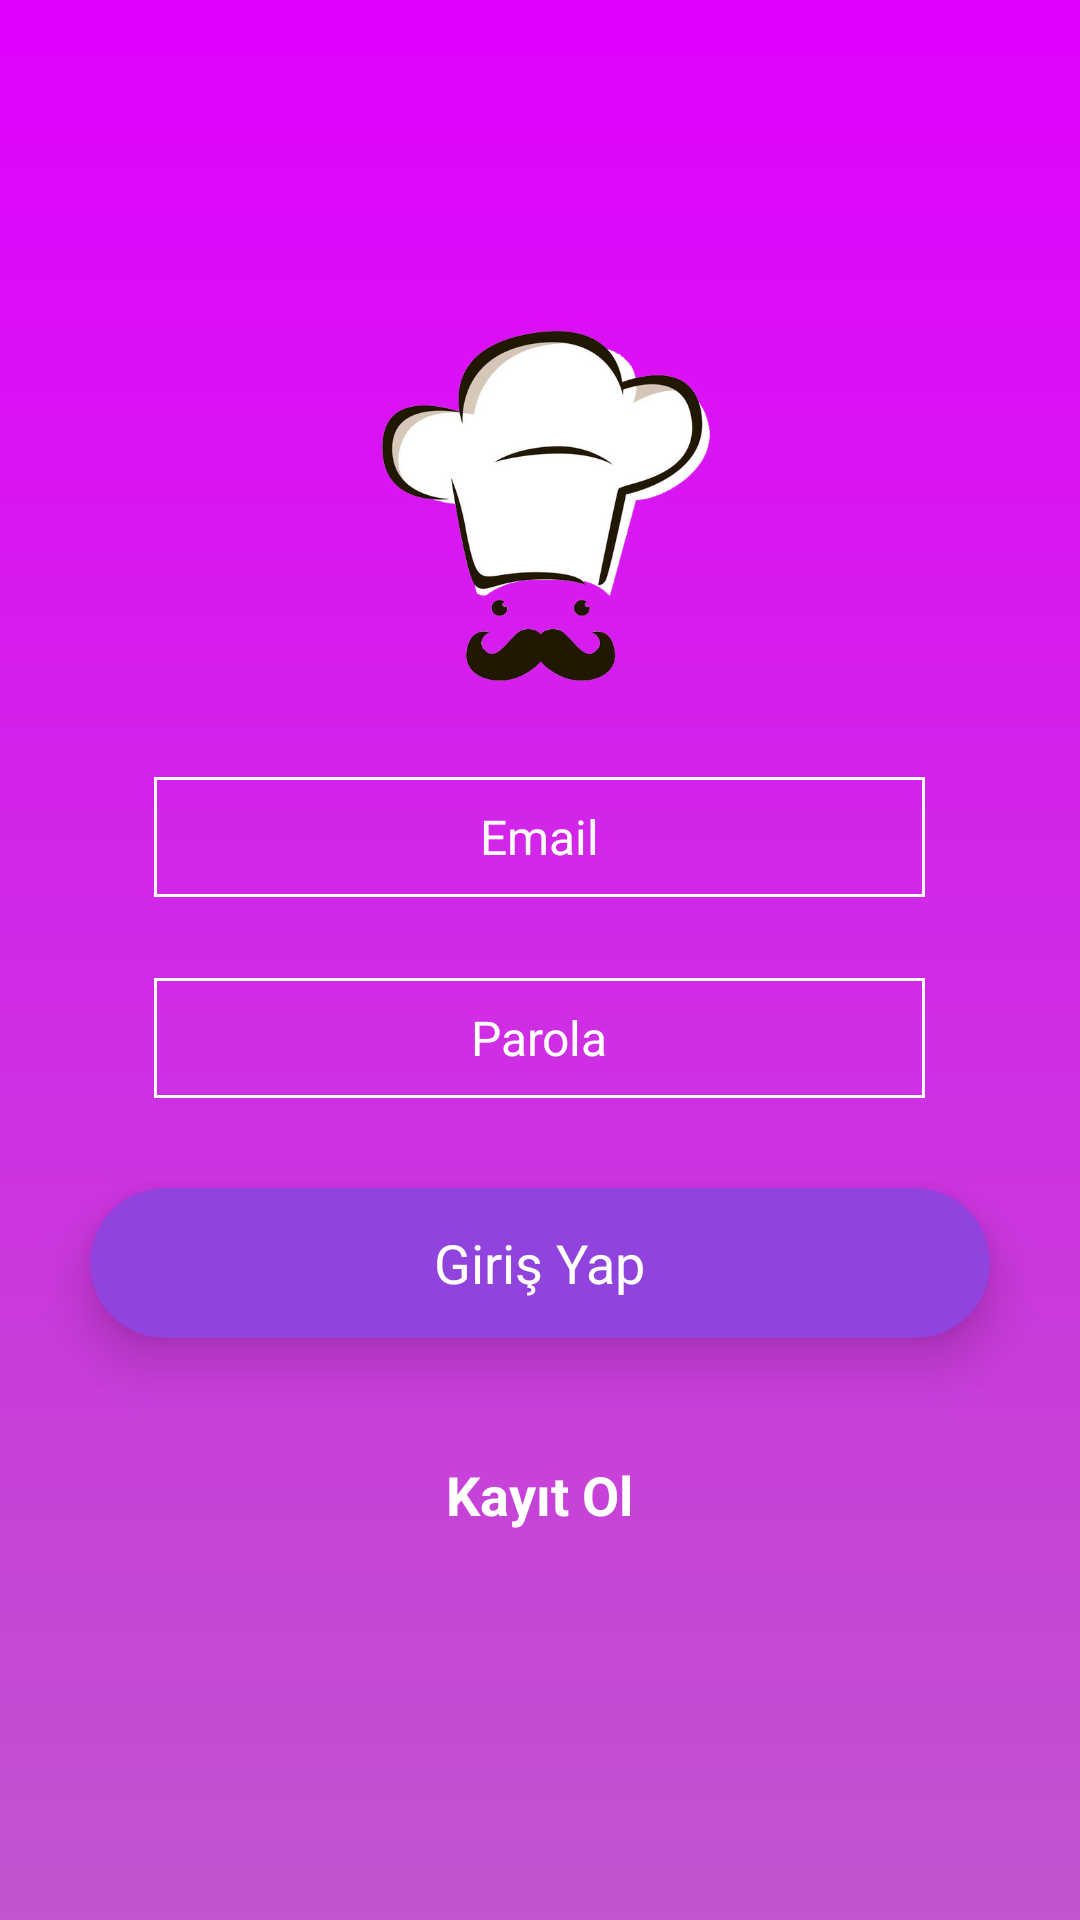

Where to tap for icons on this 1080 x 1920 app screen, as (x,y):
chef login: (546,506)
